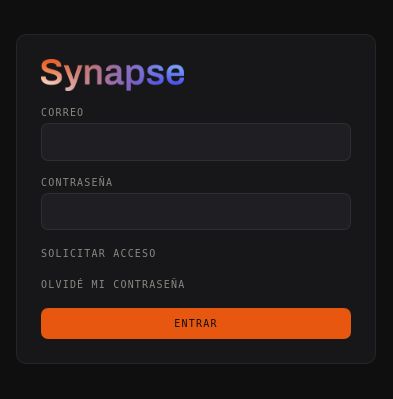
Test: cuando falla › muestra el mensaje DEL SERVICIO y no uno inventado
In the field labelled "Correo": (196, 142) x1=41 y1=123 x2=351 y2=160, type "prueba@uamx.test"
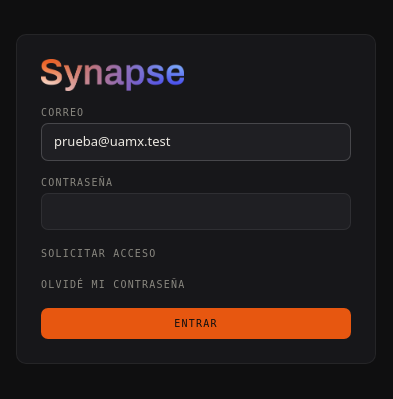
In the password field labelled "Contraseña": (196, 211) x1=41 y1=192 x2=351 y2=230, type "malamala"
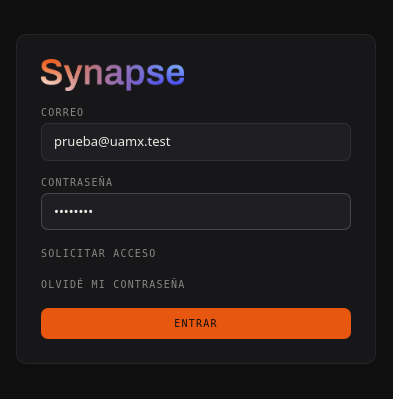
Click the button "Entrar": (196, 324) x1=41 y1=308 x2=351 y2=339
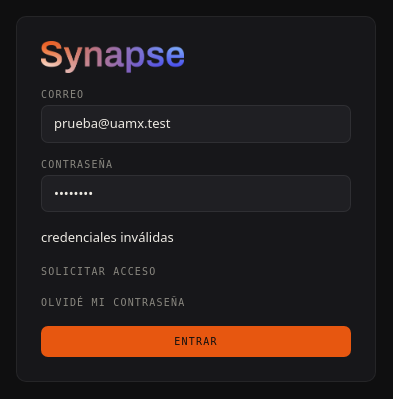
Result: the message reads "credenciales inválidas" at x1=41 y1=228 x2=174 y2=246
